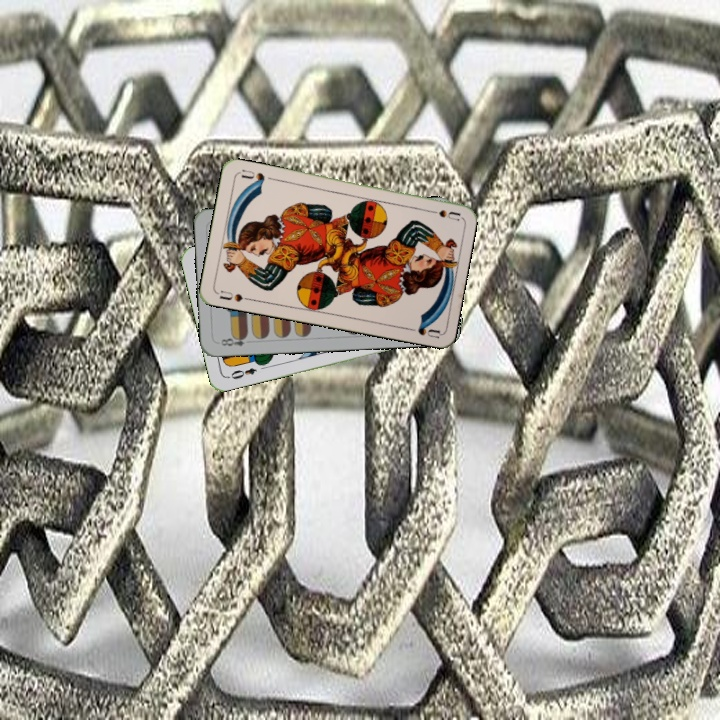E8: (217, 331, 250, 349)
EO: (224, 364, 259, 382)
SU: (421, 205, 462, 223), (216, 286, 254, 304)
